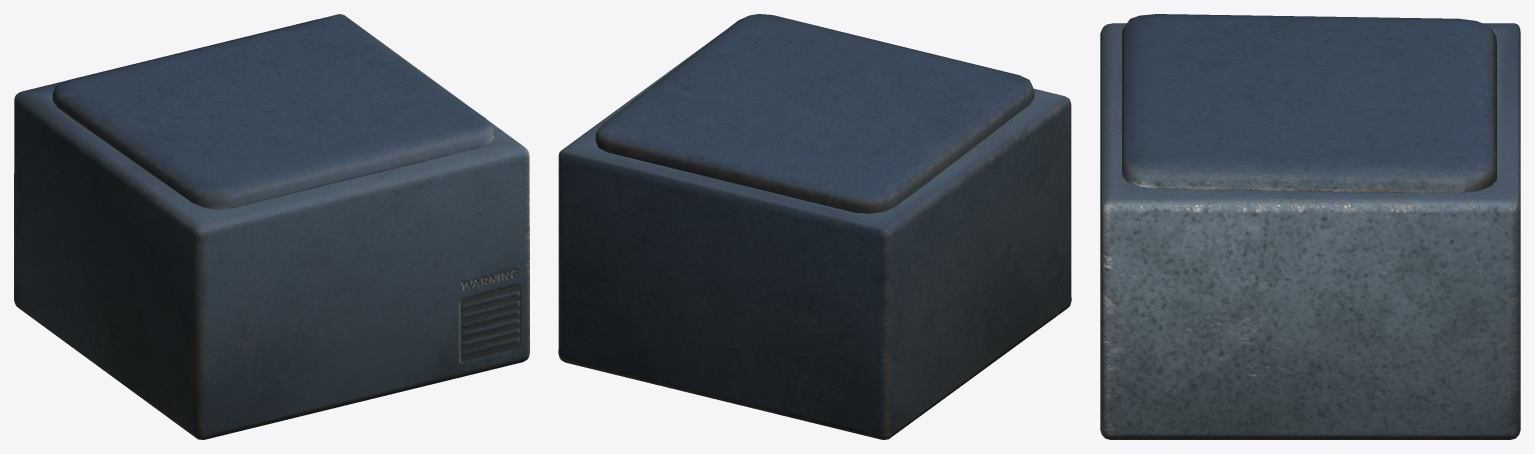
Rendered from Obstacle-19.fbx.
3 views of the same model, side by side, from view 1: azimuth 30°, elevation 25°; view 2: azimuth 150°, elevation 25°; view 3: azimuth 270°, elevation 25° (orthographic). The views are drawn at different scales.
Visible parts, largest first — view 1: Obstacle-19-Cover, Obstacle-19; view 2: Obstacle-19-Cover, Obstacle-19; view 3: Obstacle-19-Cover, Obstacle-19.
Part boxes in pixels (x1,y1,x2,y2): Obstacle-19-Cover: (14,14,529,439); Obstacle-19: (52,18,493,209); Obstacle-19-Cover: (558,32,1071,439); Obstacle-19: (595,14,1034,213); Obstacle-19-Cover: (1100,23,1520,439); Obstacle-19: (1122,14,1496,192).
Bounding box in the file's own units: 0.9982 × 0.6754 × 0.9691.
